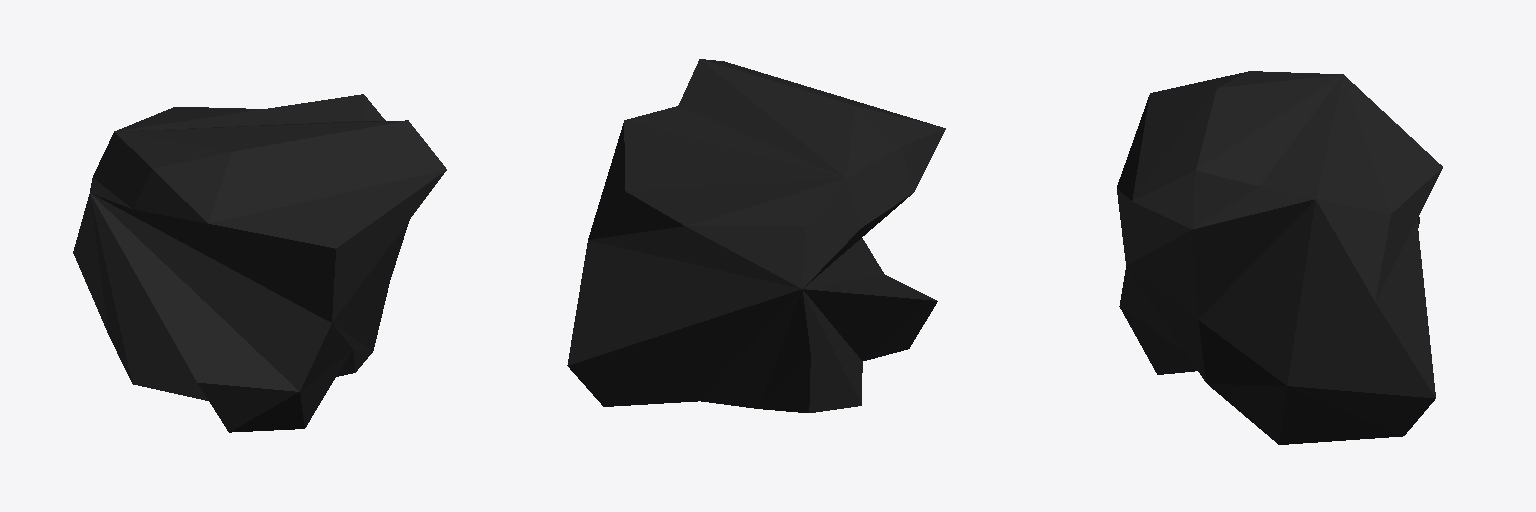
Rendered from lowPolyRock.obj.
3 renders of one model, left to right at view 1: azimuth 30°, elevation 25°; view 2: azimuth 150°, elevation 25°; view 3: azimuth 270°, elevation 25°, orthographic.
Visible parts, largest first — view 1: rock_Cube.002; view 2: rock_Cube.002; view 3: rock_Cube.002.
Boxes of the visible parts, box(x1,y1,x2,y2) form: rock_Cube.002: box(73, 94, 446, 432); rock_Cube.002: box(567, 59, 945, 412); rock_Cube.002: box(1117, 71, 1442, 444).
Size of the model in its own units: 2.94 by 2.94 by 3.09.